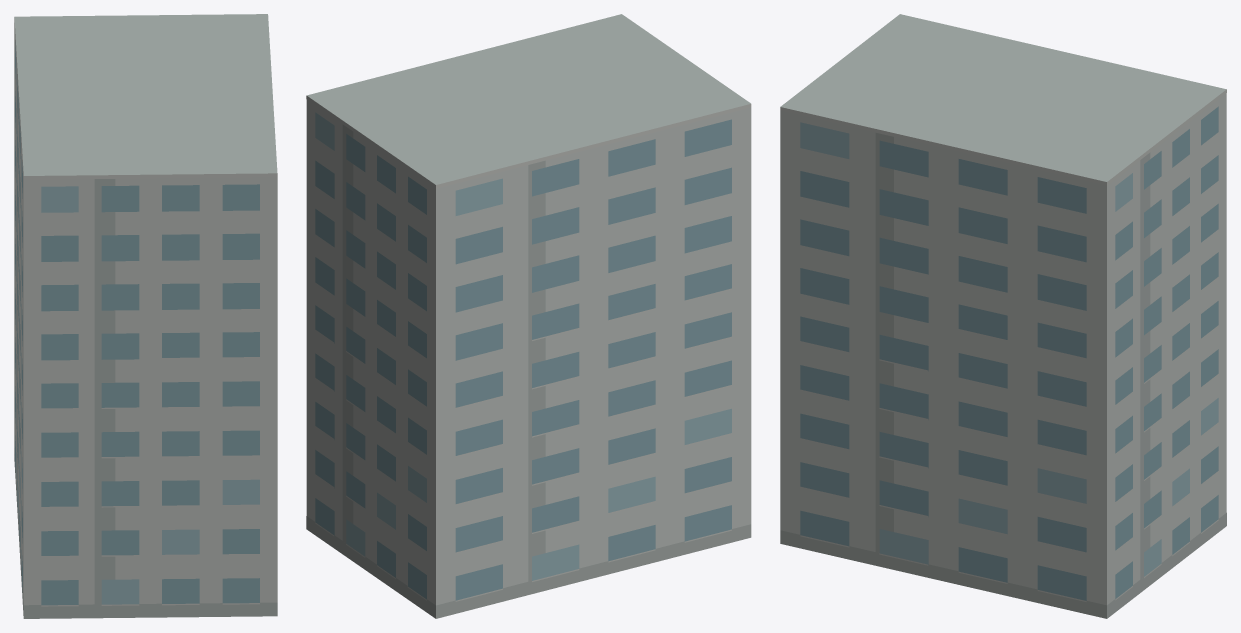
File: residential-61e713a4-2d01-421d-b6fd-392d071809b9.glb
The picture shows the model from 3 angles, left to right: view 1: azimuth 30°, elevation 25°; view 2: azimuth 150°, elevation 25°; view 3: azimuth 270°, elevation 25°; orthographic projection. The views are drawn at different scales.
Visible parts, largest first — view 1: residential-61e713a4-2d01-421d-b6fd-392d071809b9.tmp; view 2: residential-61e713a4-2d01-421d-b6fd-392d071809b9.tmp; view 3: residential-61e713a4-2d01-421d-b6fd-392d071809b9.tmp.
Boxes of the visible parts, x1=… form: residential-61e713a4-2d01-421d-b6fd-392d071809b9.tmp: x1=14, y1=14, x2=277, y2=618; residential-61e713a4-2d01-421d-b6fd-392d071809b9.tmp: x1=306, y1=14, x2=751, y2=618; residential-61e713a4-2d01-421d-b6fd-392d071809b9.tmp: x1=780, y1=14, x2=1226, y2=618.
Bounding box in the file's own units: 23.12 × 28 × 25.95.
